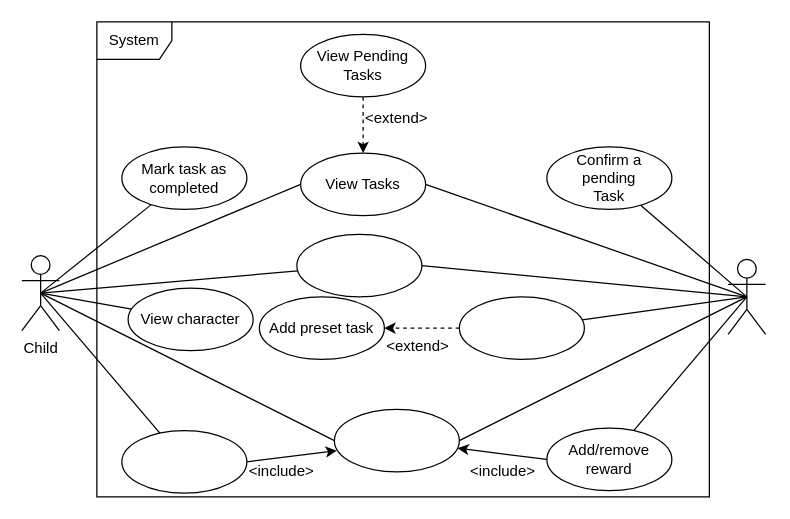
Some shapes in this 790 by 519 pixel diagram are drawn without their labels. The shapes that lost their labels are listed below. From the top down, each one's centre as x and y in pixels, then its label:
(x=359, y=265): Add parent to account
(x=746, y=296): Parent
(x=521, y=327): Add new task
(x=396, y=440): View Reward Shop
(x=184, y=461): Purchase Reward
